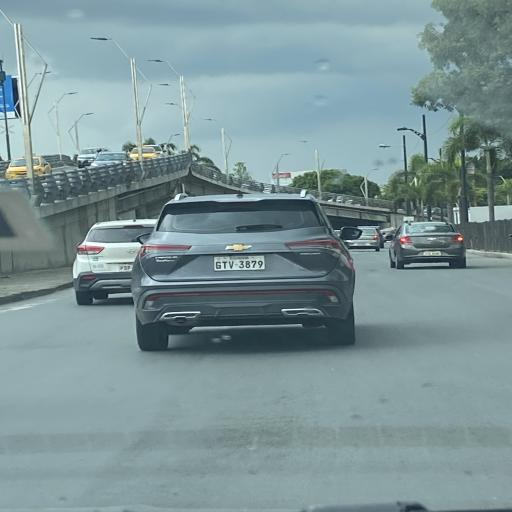license_plate: (214, 255, 265, 270), (119, 264, 132, 271), (423, 251, 441, 256)
